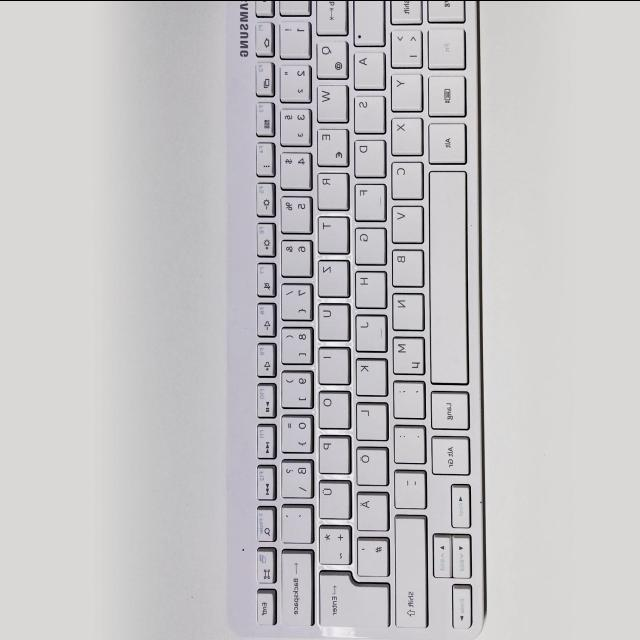0: (277, 411, 311, 451)
1: (277, 18, 309, 56)
2: (277, 61, 309, 101)
3: (277, 104, 309, 144)
4: (277, 149, 309, 188)
5: (277, 192, 310, 231)
6: (277, 236, 310, 275)
7: (278, 280, 311, 319)
8: (278, 323, 311, 363)
9: (278, 367, 312, 407)
a: (351, 49, 383, 87)
accent: (277, 501, 311, 541)
ae: (353, 488, 387, 529)
alt-left: (425, 119, 465, 163)
b: (388, 245, 422, 285)
c: (388, 158, 421, 198)
caret: (276, 0, 308, 13)
comma: (390, 376, 423, 417)
d: (351, 136, 385, 176)
del: (278, 547, 312, 625)
e: (314, 125, 347, 166)
enter: (315, 569, 389, 626)
f: (352, 181, 384, 219)
g: (352, 224, 384, 262)
h: (352, 267, 384, 306)
hash: (353, 534, 387, 575)
i: (315, 344, 347, 383)
j: (352, 311, 386, 349)
k: (352, 355, 386, 394)
keyboard: (221, 0, 489, 639)
l: (353, 399, 387, 439)
less: (387, 26, 421, 66)
m: (389, 333, 423, 373)
minus: (391, 466, 424, 508)
n: (389, 289, 422, 329)
o: (315, 387, 349, 427)
oe: (353, 443, 387, 484)
p: (315, 432, 349, 472)
plus: (315, 522, 349, 563)
point: (391, 422, 424, 462)
q: (314, 37, 347, 77)
r: (314, 169, 347, 209)
s: (351, 92, 383, 132)
shift-left: (387, 1, 421, 23)
shift-lock: (350, 1, 383, 45)
shift-right: (391, 511, 425, 627)
space: (426, 167, 467, 383)
ss: (277, 455, 311, 496)
strg-left: (424, 0, 464, 21)
strg-right: (428, 433, 469, 474)
t: (314, 214, 347, 252)
tab: (313, 0, 345, 33)
u: (314, 300, 348, 339)
ue: (315, 476, 349, 517)
v: (388, 202, 422, 242)
w: (314, 81, 346, 121)
x: (388, 114, 422, 153)
y: (388, 70, 421, 110)
z: (314, 257, 348, 295)
